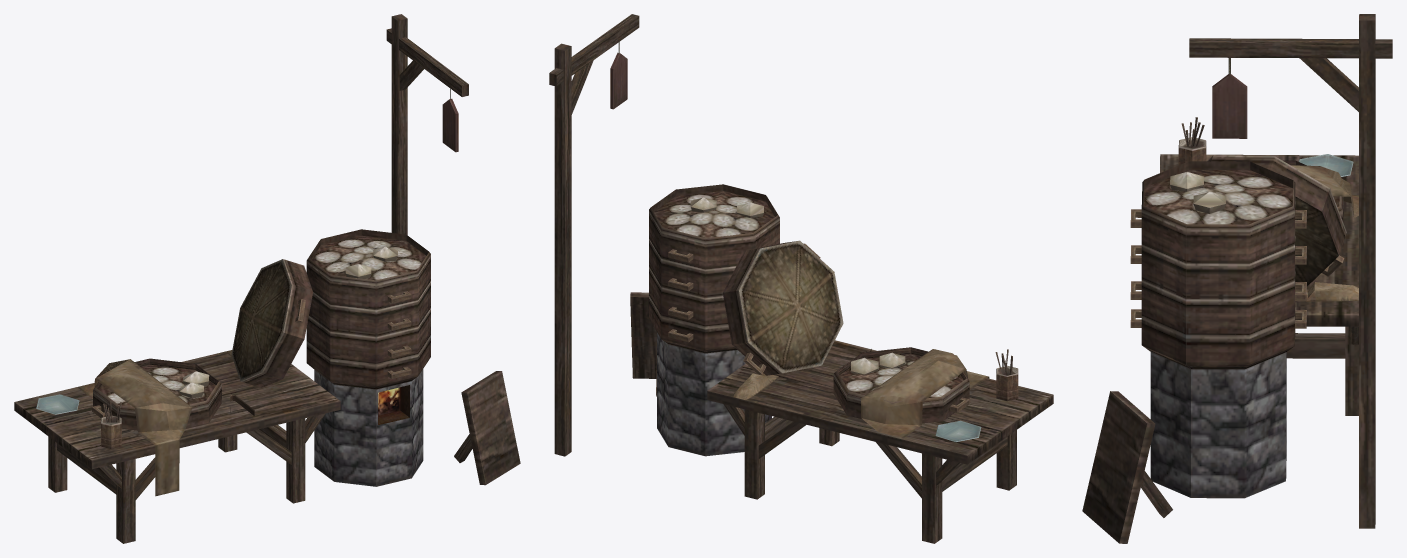
3 renders of one model, left to right at view 1: azimuth 30°, elevation 25°; view 2: azimuth 150°, elevation 25°; view 3: azimuth 270°, elevation 25°, orthographic. The views are drawn at different scales.
Parts seen in each view (by area): view 1: gudaijishi129; view 2: gudaijishi129; view 3: gudaijishi129.
Boxes of the visible parts, x1,y1,x2,y2 form: gudaijishi129: (14, 14, 520, 543); gudaijishi129: (549, 14, 1053, 543); gudaijishi129: (1082, 14, 1392, 543).
Bounding box in the file's own units: 45.47 × 40.56 × 22.34.
1 material, 1 textured.
